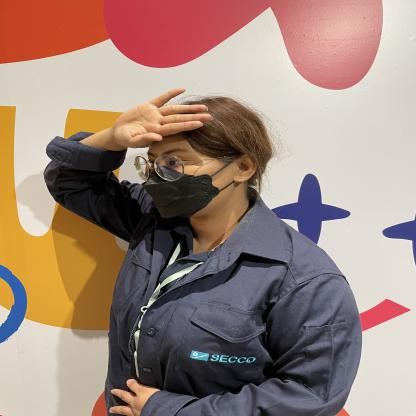Sick: (29, 81, 246, 172)
